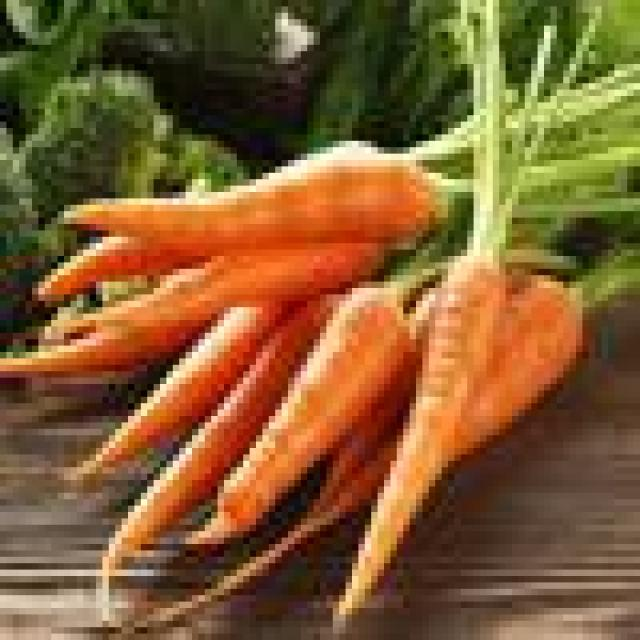Fresh_Carrot: (332, 0, 640, 633), (67, 80, 640, 246)
